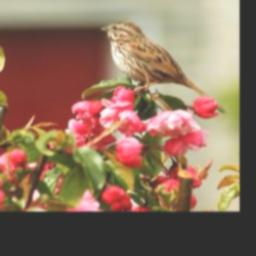Sparrow: (98, 18, 231, 118)
